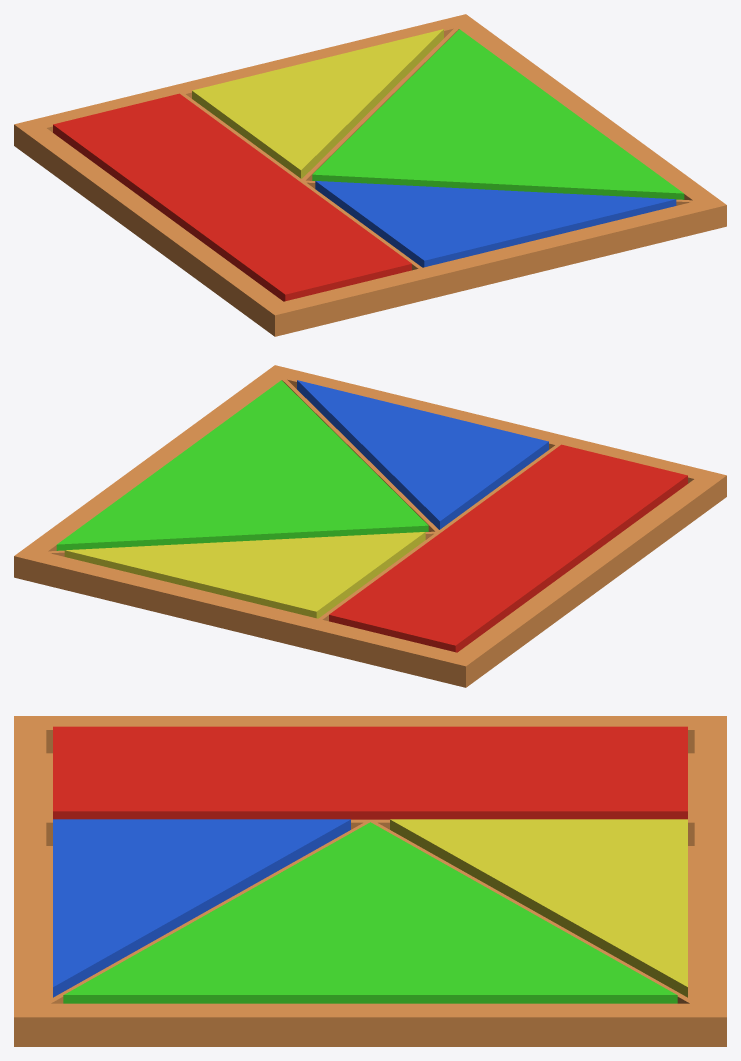
The model's file is Pieza Triángulo Medio.fbx.
3 views of the same model, one above another, from view 1: azimuth 30°, elevation 25°; view 2: azimuth 150°, elevation 25°; view 3: azimuth 270°, elevation 25° (orthographic). The views are drawn at different scales.
Visible parts, largest first — view 1: Puzle Completo STL - Tablón Puzle-1, Puzle Completo STL - Pieza Rectángulo-1, Puzle Completo STL - Pierza Triangulo medio-1, Puzle Completo STL - Pieza Triangulo Abajo-1, Puzle Completo STL - Pieza Triangulo Arriba-1; view 2: Puzle Completo STL - Tablón Puzle-1, Puzle Completo STL - Pieza Rectángulo-1, Puzle Completo STL - Pierza Triangulo medio-1, Puzle Completo STL - Pieza Triangulo Arriba-1, Puzle Completo STL - Pieza Triangulo Abajo-1; view 3: Puzle Completo STL - Tablón Puzle-1, Puzle Completo STL - Pieza Rectángulo-1, Puzle Completo STL - Pierza Triangulo medio-1, Puzle Completo STL - Pieza Triangulo Abajo-1, Puzle Completo STL - Pieza Triangulo Arriba-1.
Boxes of the visible parts, x1,y1,x2,y2 form: Puzle Completo STL - Tablón Puzle-1: (14,14,726,336); Puzle Completo STL - Pieza Rectángulo-1: (53,93,411,301); Puzle Completo STL - Pierza Triangulo medio-1: (312,29,684,199); Puzle Completo STL - Pieza Triangulo Abajo-1: (315,181,676,267); Puzle Completo STL - Pieza Triangulo Arriba-1: (192,29,443,178); Puzle Completo STL - Tablón Puzle-1: (14,365,726,687); Puzle Completo STL - Pieza Rectángulo-1: (329,444,687,652); Puzle Completo STL - Pierza Triangulo medio-1: (56,380,428,550); Puzle Completo STL - Pieza Triangulo Arriba-1: (64,532,425,618); Puzle Completo STL - Pieza Triangulo Abajo-1: (297,380,548,529); Puzle Completo STL - Tablón Puzle-1: (14,716,726,1046); Puzle Completo STL - Pieza Rectángulo-1: (53,726,687,819); Puzle Completo STL - Pierza Triangulo medio-1: (63,822,677,1003); Puzle Completo STL - Pieza Triangulo Abajo-1: (53,819,350,997); Puzle Completo STL - Pieza Triangulo Arriba-1: (390,819,687,997).
Bounding box in the file's own units: 22000 × 1200 × 22000.
